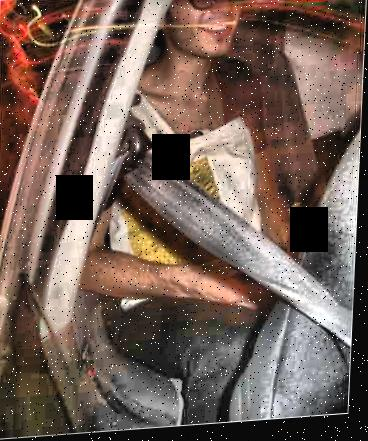seatbelt: (114, 132, 342, 337)
